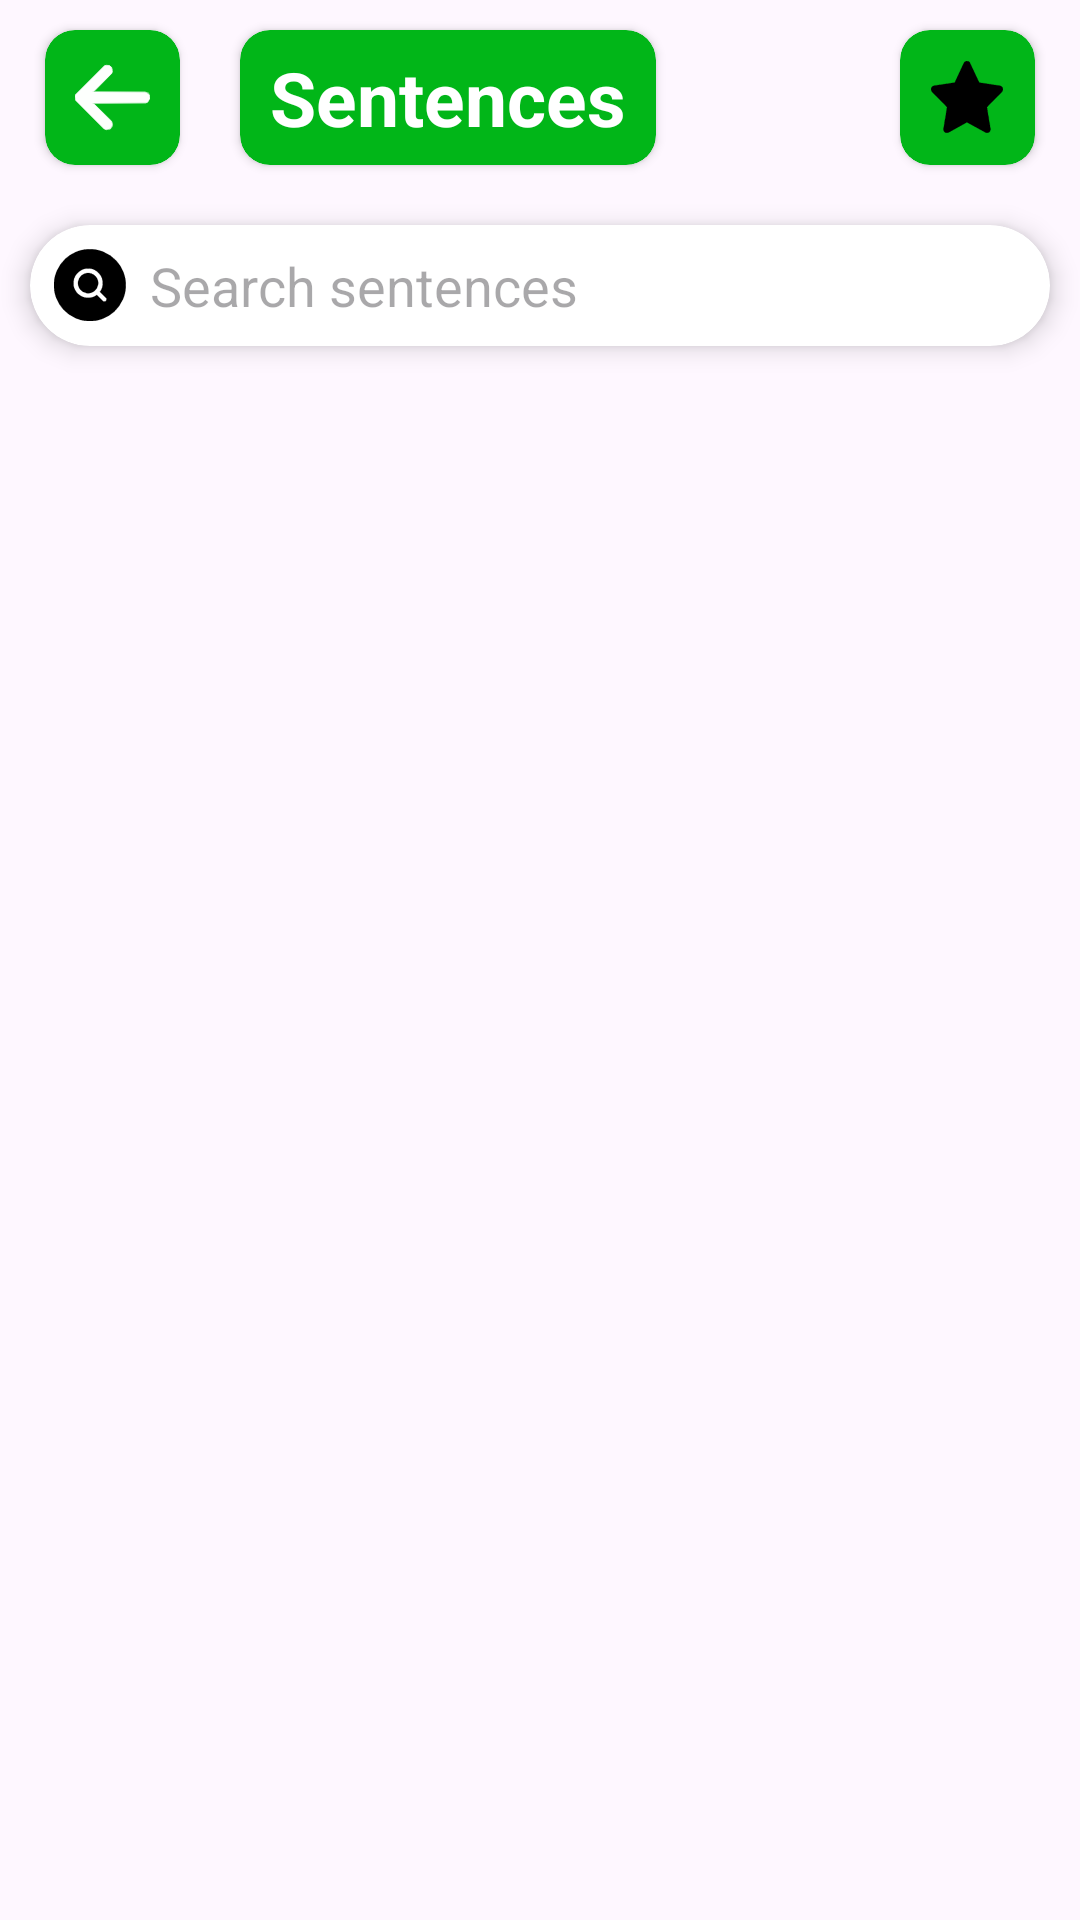

Named icons in this screenshot (1080 x 1920) and their centers, [x,y]:
back: [112,97]
Favourites: [967,97]
